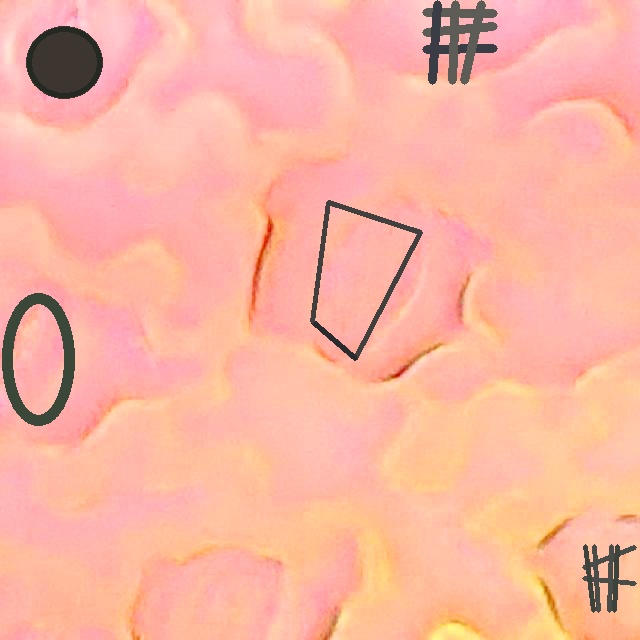close: (311, 201, 421, 359), (422, 0, 497, 84), (583, 544, 635, 612)
open: (2, 292, 75, 426), (26, 26, 101, 98)
